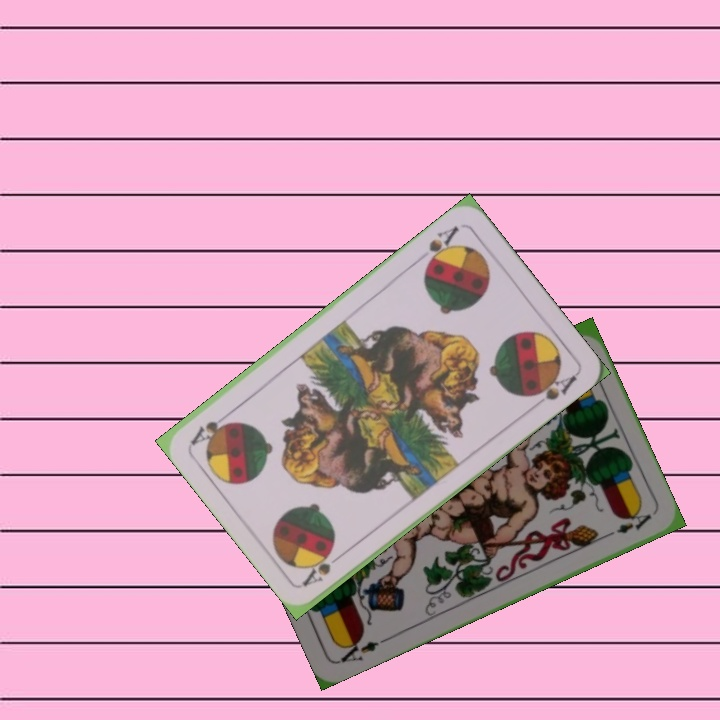EA: (335, 633, 391, 666)
SA: (298, 547, 350, 588), (421, 222, 462, 271)
